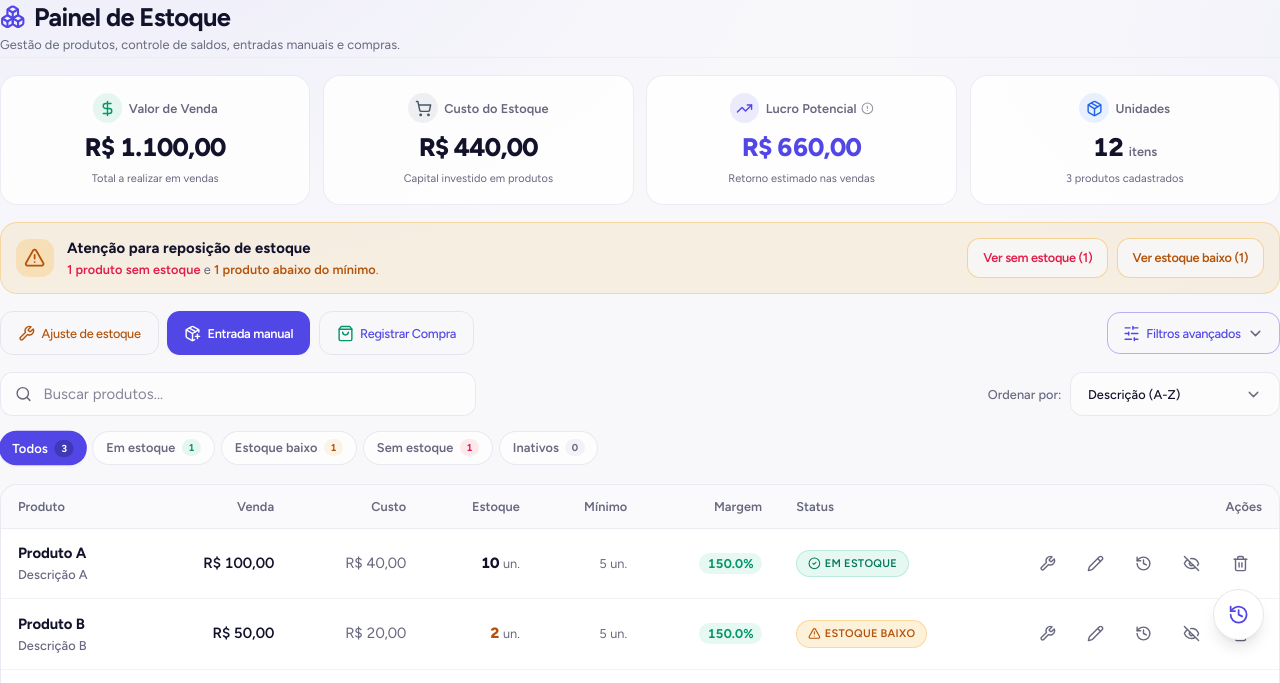
Test: StockManager — Painel de Estoque › abre o diálogo de ajuste ao clicar no botão 'Ajuste de estoque'
The image size is (1280, 683).
Click the button "Ajuste de estoque" at (79, 333), box x1=0 y1=311 x2=159 y2=355
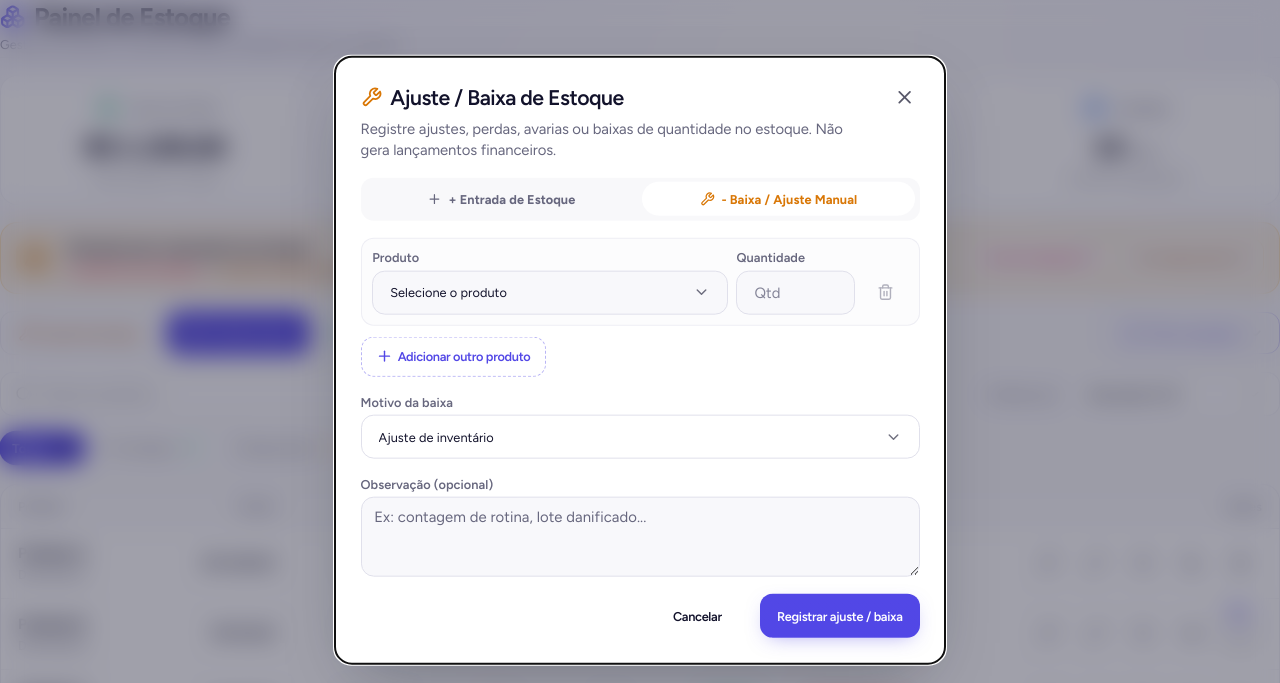
Expected: the heading "Ajuste / Baixa de Estoque" is shown, x1=360 y1=84 x2=624 y2=109
